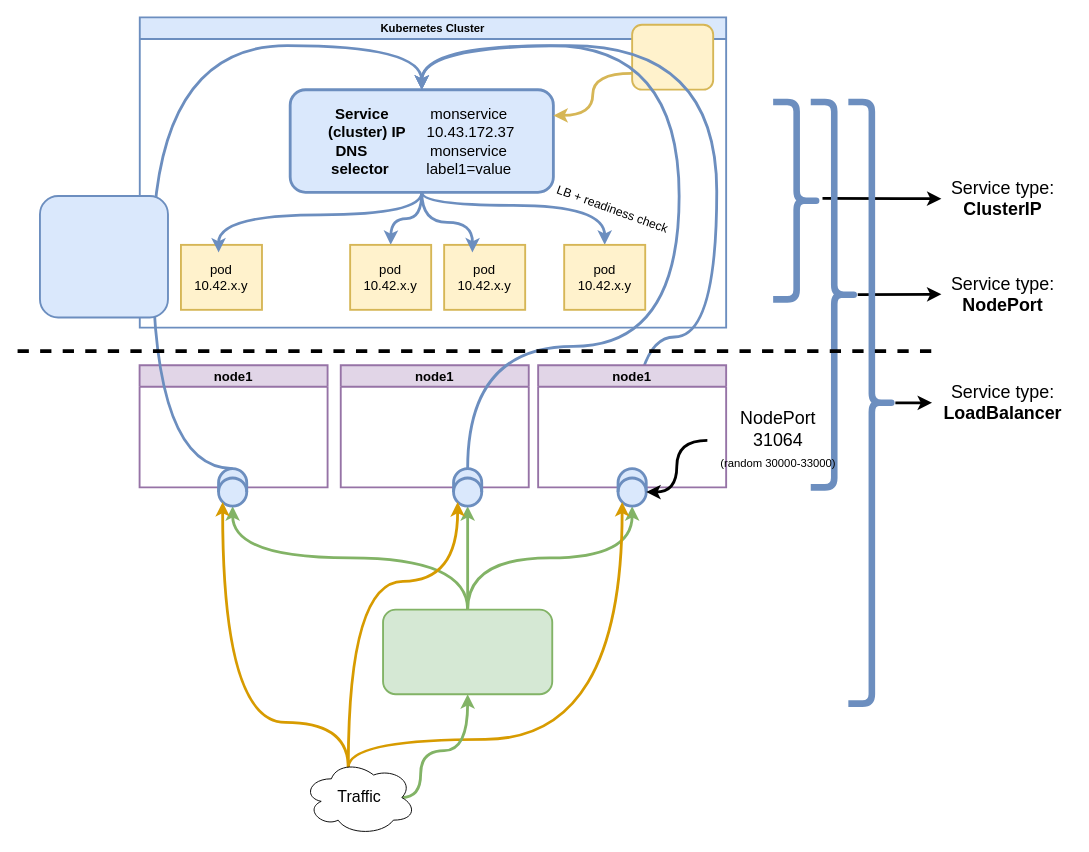
Image size: 1089x852. Some labels were removed from this diagram. The centre of each missing label's shape, as x and y in pixels:
CNI plugin: (x=103, y=256)
Coredns: (x=672, y=56)
External LoadBalancer: (x=467, y=651)
